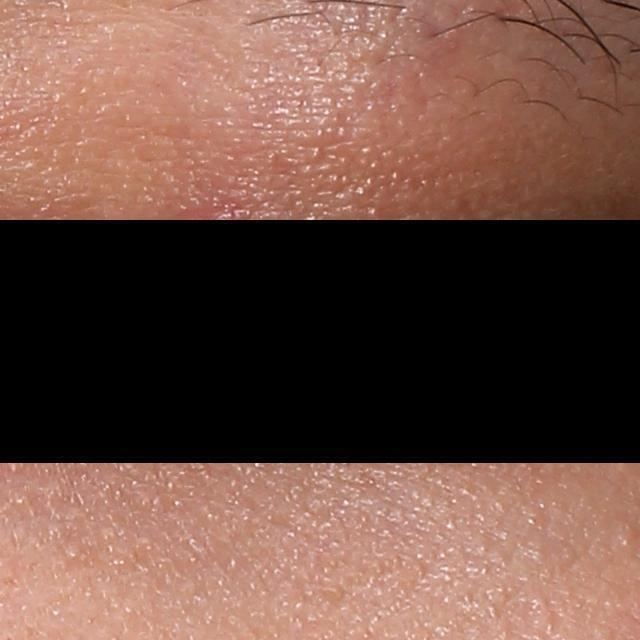comedo: (613, 526, 640, 558)
